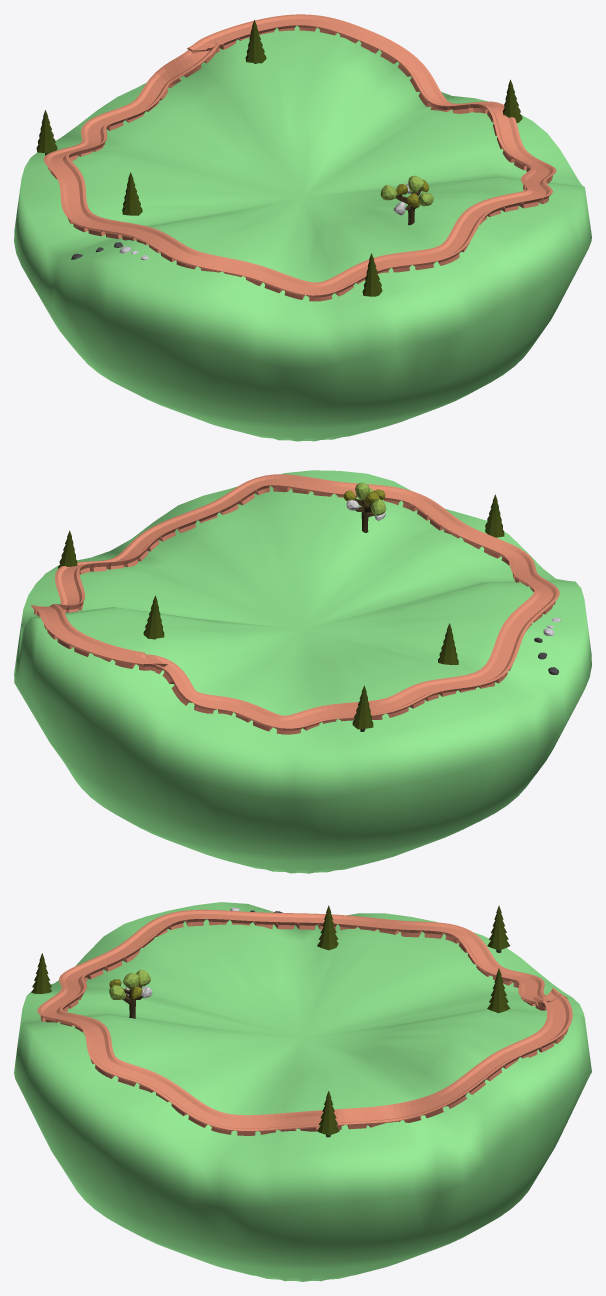
The model's file is truck3.fbx.
The picture shows the model from 3 angles, top to bottom: view 1: azimuth 30°, elevation 25°; view 2: azimuth 150°, elevation 25°; view 3: azimuth 270°, elevation 25°; orthographic projection.
Visible parts, largest first — view 1: Cylinder.011, Cube.018, Arbre_Normal_Cylinder.001; view 2: Cylinder.011, Cube.018, Arbre_Normal_Cylinder.001, SapinHiver.015_Cylinder.003, SapinHiver.015_Cylinder.004; view 3: Cylinder.011, Cube.018, Arbre_Normal_Cylinder.001, SapinHiver.015_Cylinder.003, SapinHiver.015_Cylinder.001, SapinHiver.015_Cylinder.004, SapinHiver.015_Cylinder.002.
Boxes of the visible parts, bbox=[...] form: Cylinder.011: bbox=[14, 25, 591, 441]; Cube.018: bbox=[43, 14, 556, 301]; Arbre_Normal_Cylinder.001: bbox=[380, 175, 433, 225]; Cylinder.011: bbox=[14, 470, 591, 873]; Cube.018: bbox=[30, 474, 559, 734]; Arbre_Normal_Cylinder.001: bbox=[343, 482, 386, 532]; SapinHiver.015_Cylinder.003: bbox=[352, 685, 373, 731]; SapinHiver.015_Cylinder.004: bbox=[143, 595, 164, 639]; Cylinder.011: bbox=[14, 902, 591, 1281]; Cube.018: bbox=[37, 909, 572, 1135]; Arbre_Normal_Cylinder.001: bbox=[109, 969, 152, 1018]; SapinHiver.015_Cylinder.003: bbox=[487, 905, 509, 952]; SapinHiver.015_Cylinder.001: bbox=[317, 1091, 339, 1137]; SapinHiver.015_Cylinder.004: bbox=[487, 968, 509, 1012]; SapinHiver.015_Cylinder.002: bbox=[317, 905, 338, 950].
Size of the model in its own units: 9.49 by 5.84 by 9.49.
